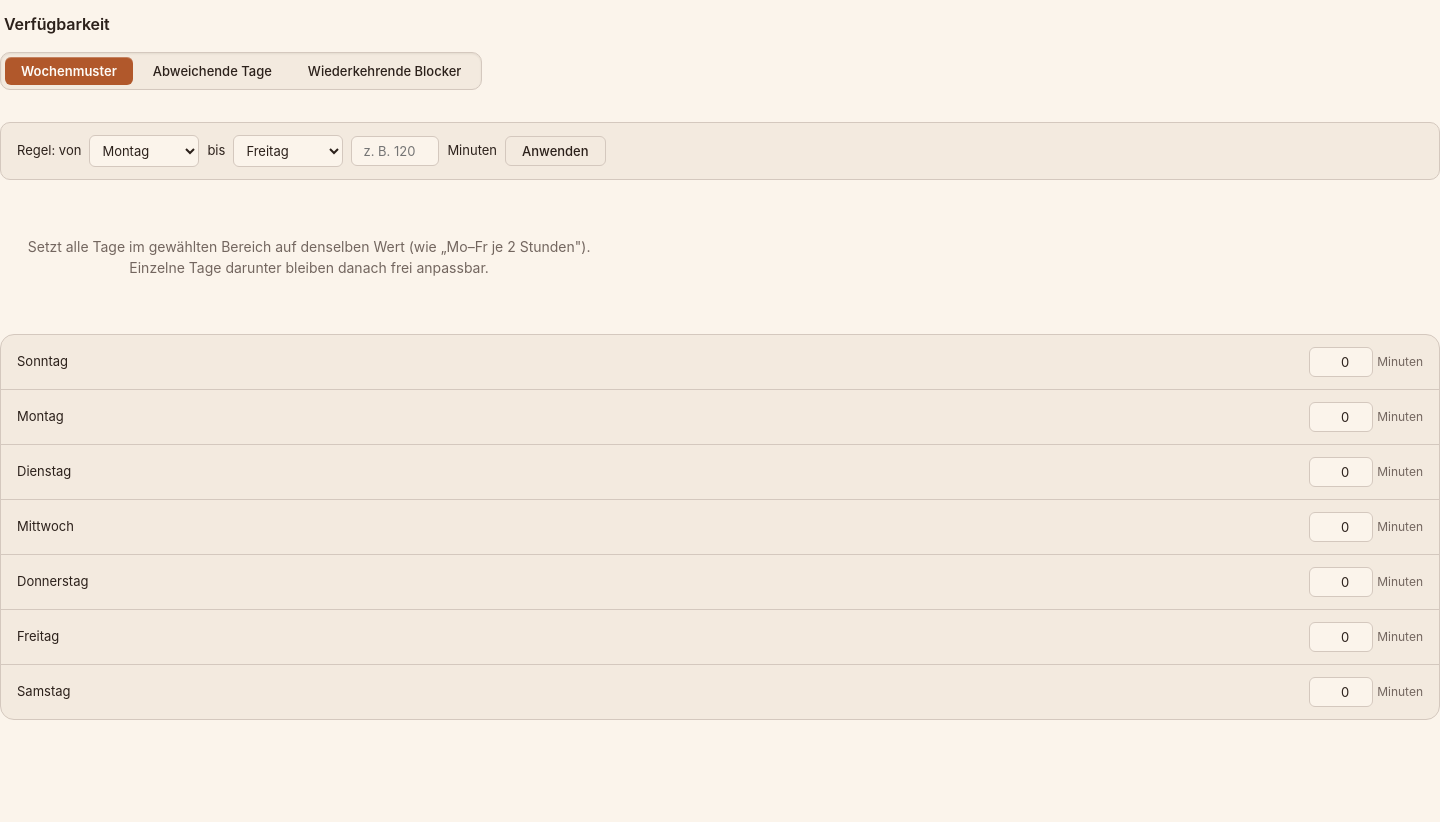
AvailabilitySetup › lehnt einen Zeitraum ab, dessen Ende vor dem Anfang liegt
Click the tab "Abweichende Tage": click(212, 71) [137,57,288,85]
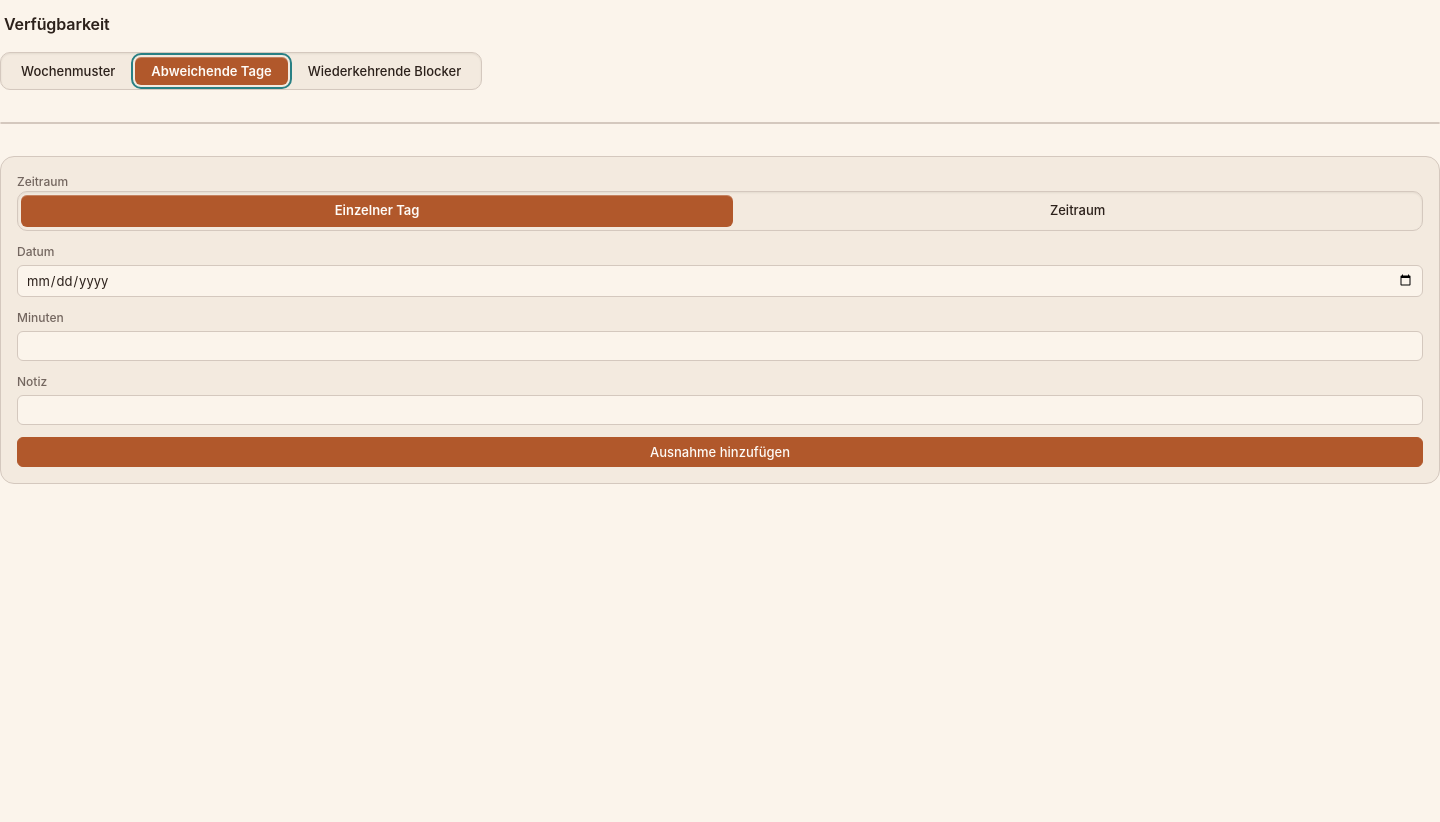
Click the radio button labelled "Zeitraum": click(1078, 210) [1050,202,1105,218]
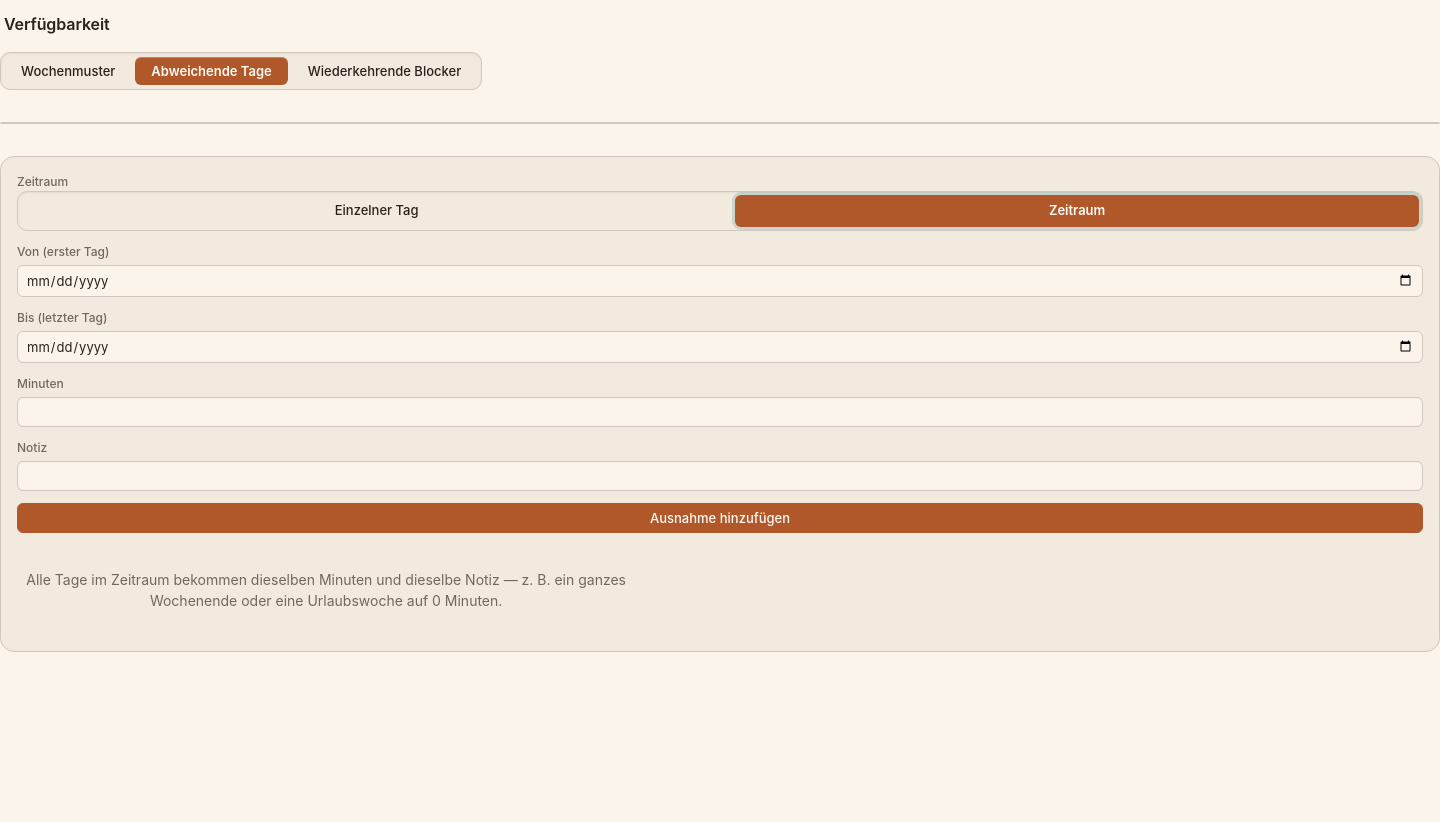
In the date field labelled "Von (erster Tag)": (720, 280) [17,264,1423,296], type "2026-08-10"
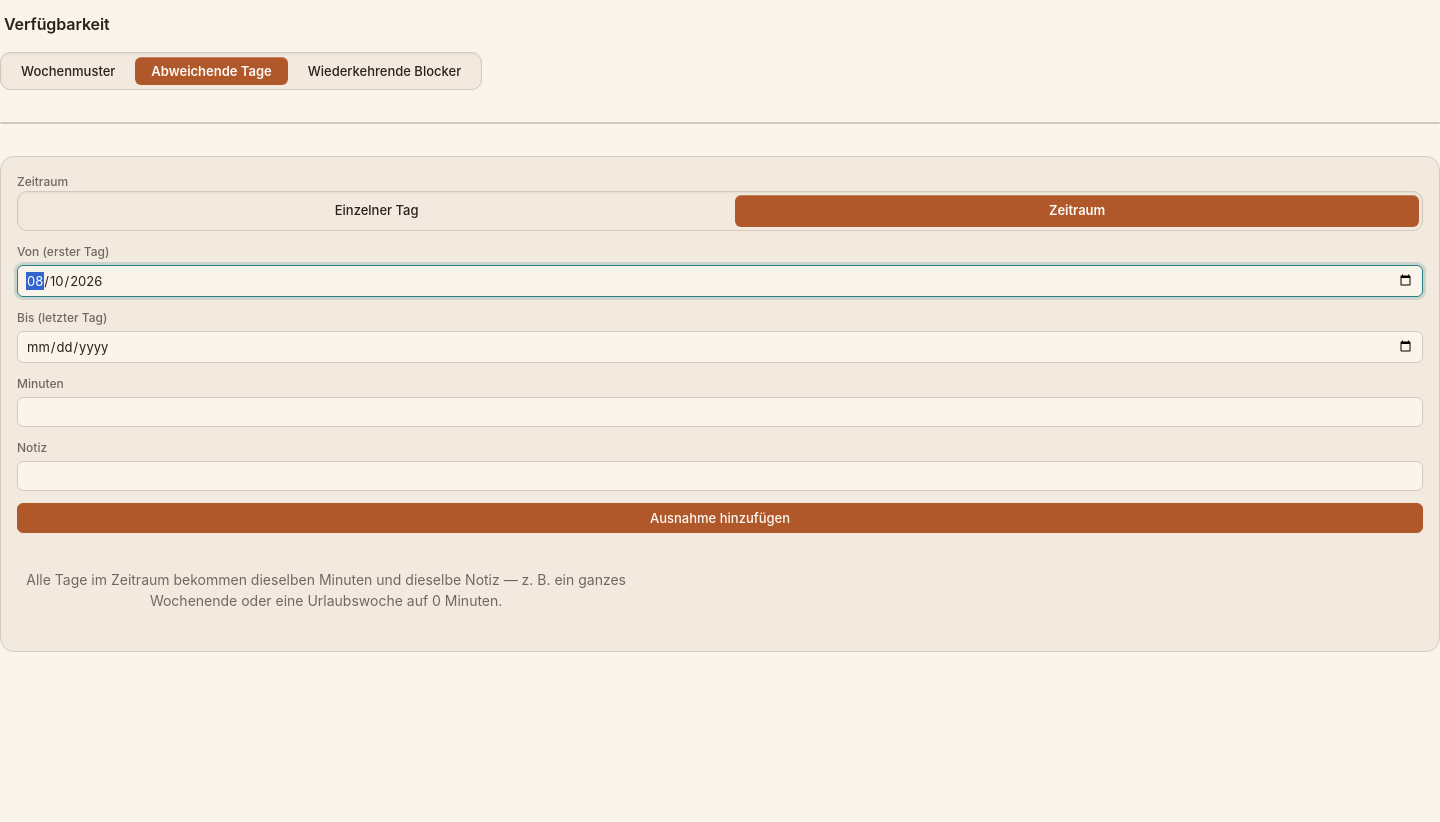
In the date field labelled "Bis (letzter Tag)": (720, 346) [17,330,1423,362], type "2026-08-03"
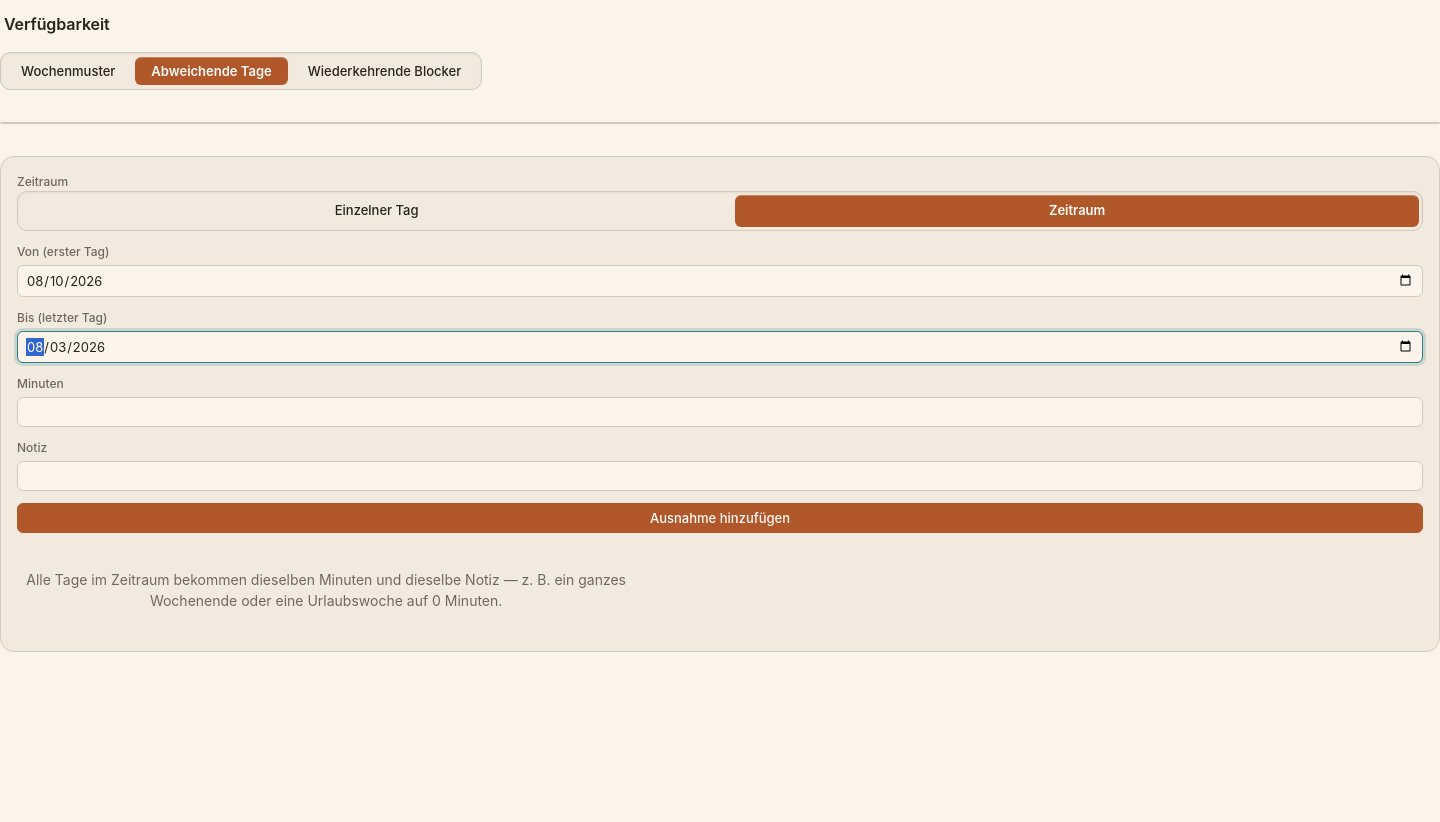
Click the button "Ausnahme hinzufügen": click(720, 518) [17,502,1423,532]
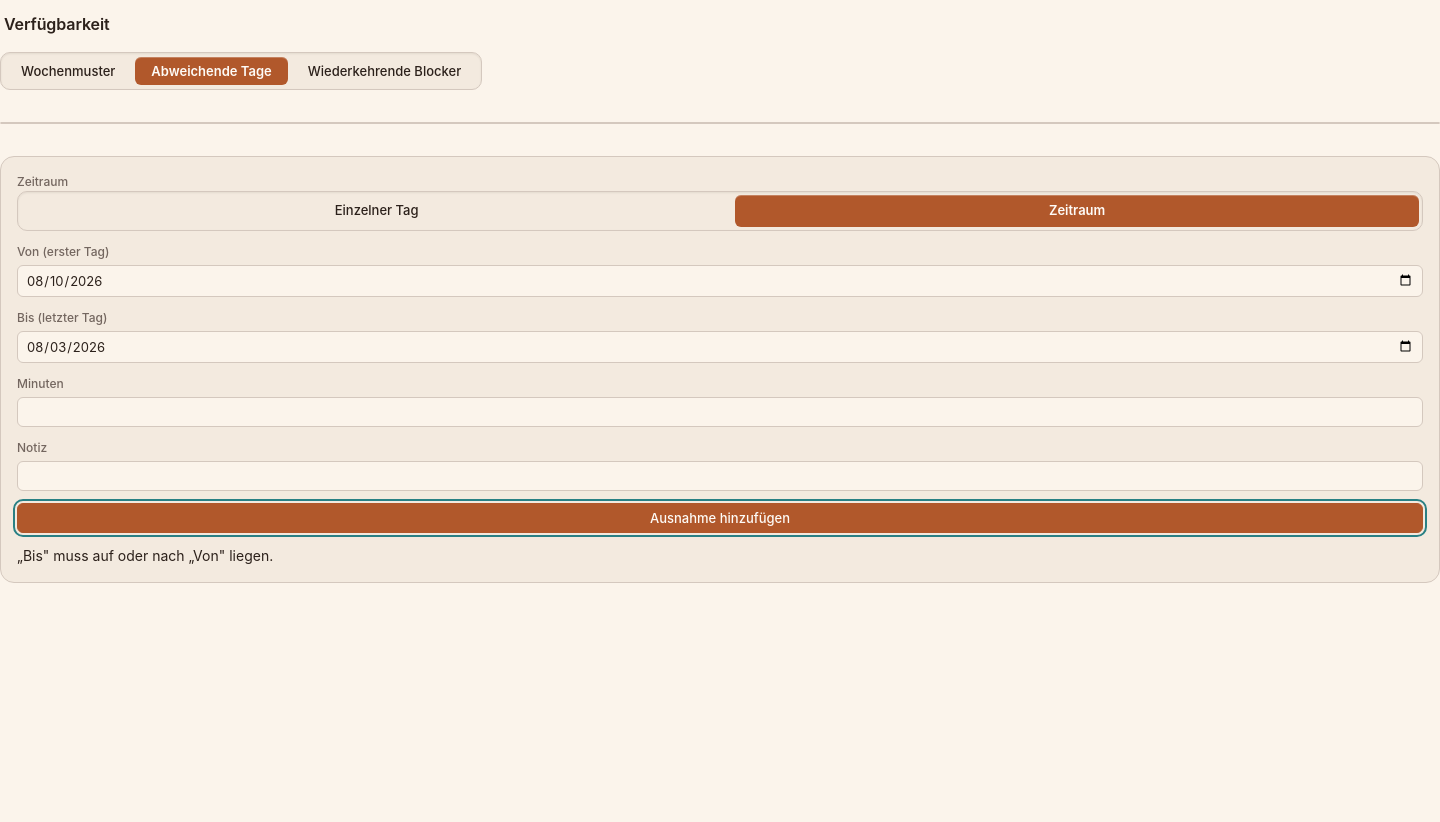
Expected: the text "„Bis\" muss auf oder nach „Von\" liegen." is shown, [17,546,273,564]
